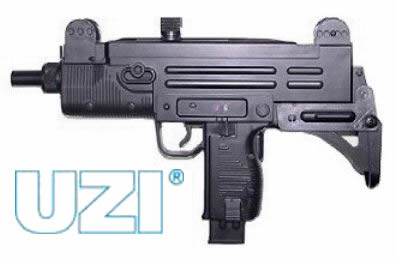rifle: (15, 12, 376, 244)
